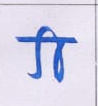i_matra: (42, 25, 68, 81)
